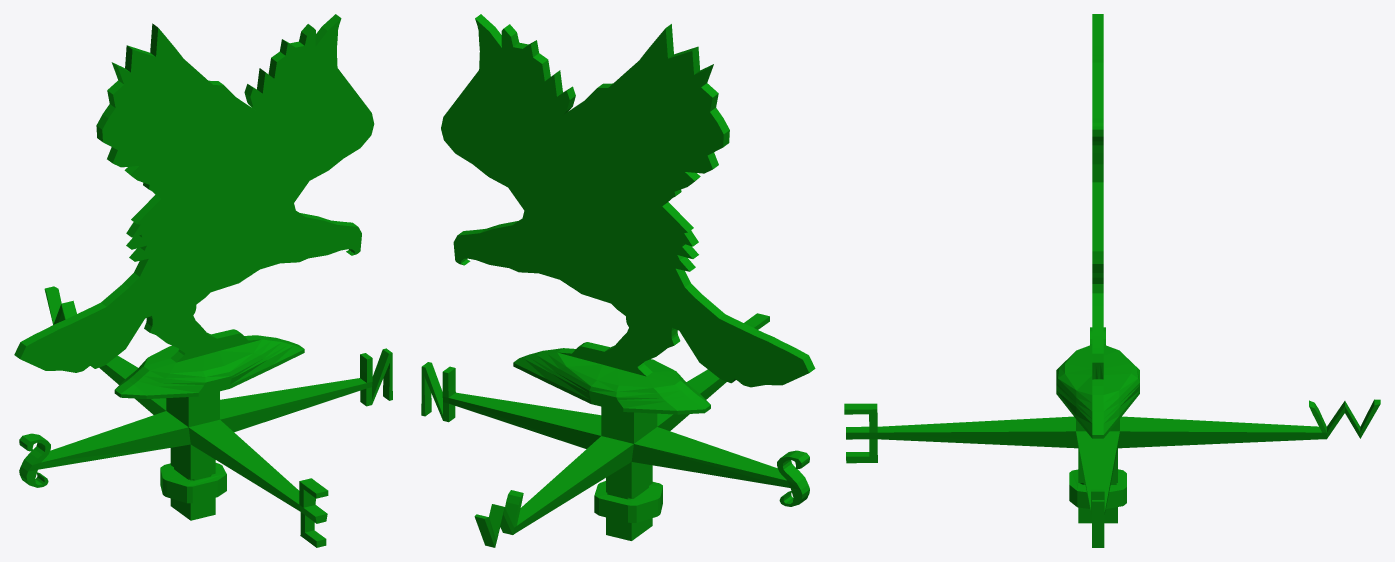
The model's file is Wind Vane.fbx.
3 views of the same model, side by side, from view 1: azimuth 30°, elevation 25°; view 2: azimuth 150°, elevation 25°; view 3: azimuth 270°, elevation 25° (orthographic). The views are drawn at different scales.
Parts seen in each view (by area): view 1: Box001_01 - Default_0; view 2: Box001_01 - Default_0; view 3: Box001_01 - Default_0.
Boxes of the visible parts, x1,y1,x2,y2 form: Box001_01 - Default_0: (14, 14, 392, 547); Box001_01 - Default_0: (421, 14, 815, 547); Box001_01 - Default_0: (844, 14, 1380, 547).
Bounding box in the file's own units: 18.34 × 23.25 × 23.28.
